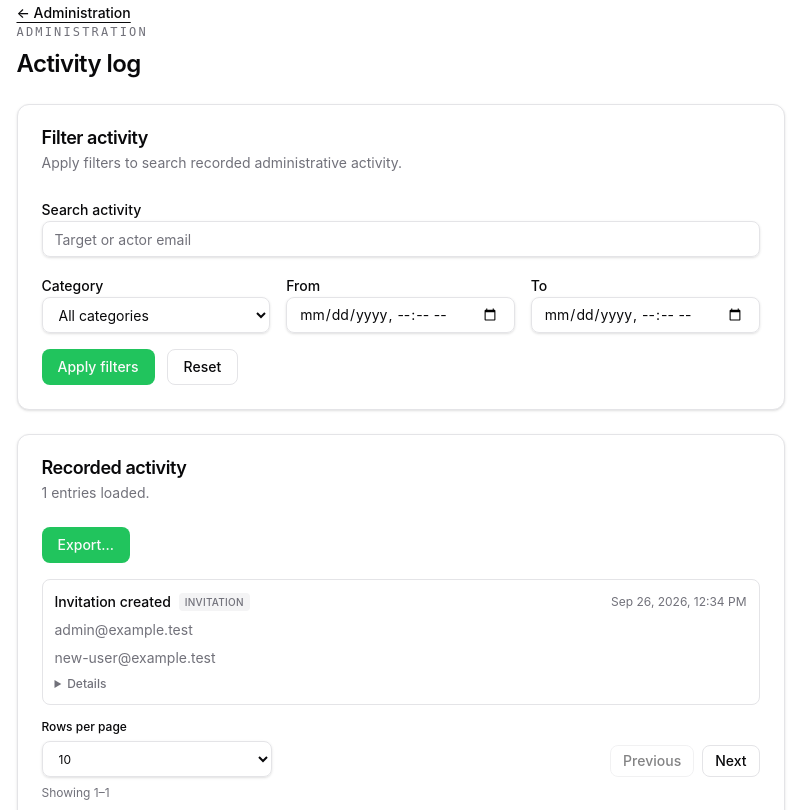
AdminActivityPage › renders audit details only when the row disclosure is expanded
Expected: the text "Invitation created" is shown, [54,592,171,612]
Expected: the text "\"inviteId\"" is not shown
Click the heading "Details".
click(87, 684)  # box [67,676,106,691]
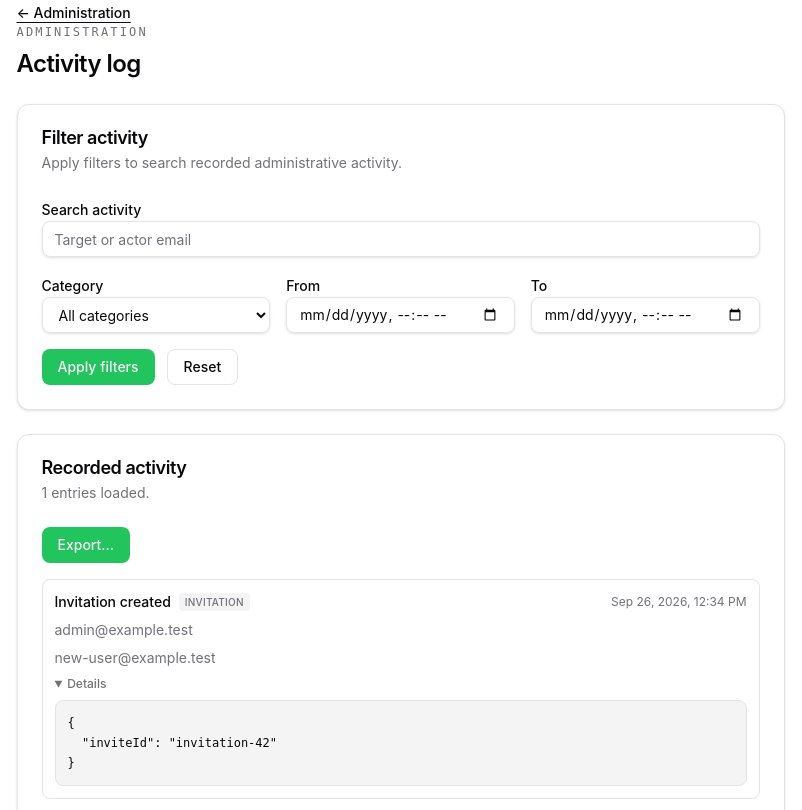
Expected: the text "{ \"inviteId\": \"invitation-42\" }" is shown, [54,700,746,786]
